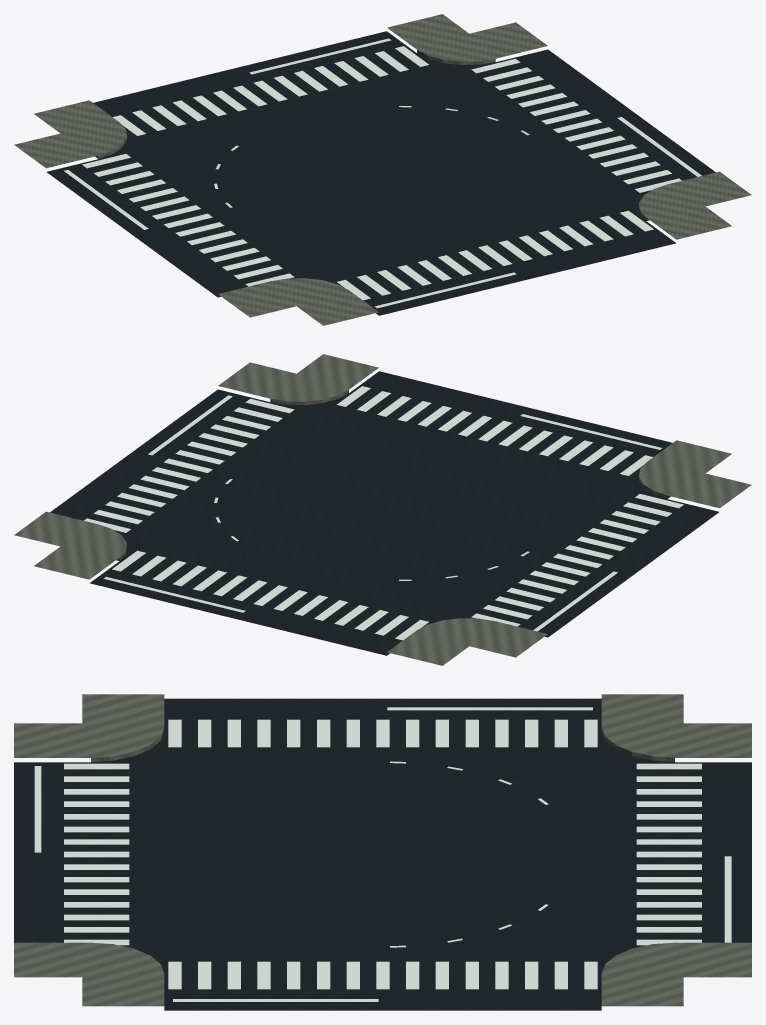
File: junc_cross_4x4_LOD1.glb
3 renders of one model, top to bottom at view 1: azimuth 30°, elevation 25°; view 2: azimuth 150°, elevation 25°; view 3: azimuth 270°, elevation 25°, orthographic. The views are drawn at different scales.
Visible parts, largest first — view 1: junc_cross_4x4__surface.001, junc_cross_4x4__rounded_corner_curb.001, junc_cross_4x4__crosswalk_paint.001, junc_cross_4x4__stop_line_paint.001; view 2: junc_cross_4x4__surface.001, junc_cross_4x4__rounded_corner_curb.001, junc_cross_4x4__crosswalk_paint.001, junc_cross_4x4__stop_line_paint.001; view 3: junc_cross_4x4__surface.001, junc_cross_4x4__rounded_corner_curb.001, junc_cross_4x4__crosswalk_paint.001, junc_cross_4x4__stop_line_paint.001.
Part boxes in pixels (x1,y1,x2,y2): junc_cross_4x4__surface.001: (47, 31, 715, 315); junc_cross_4x4__rounded_corner_curb.001: (14, 14, 751, 325); junc_cross_4x4__crosswalk_paint.001: (82, 46, 681, 300); junc_cross_4x4__stop_line_paint.001: (64, 38, 701, 308); junc_cross_4x4__surface.001: (50, 371, 718, 655); junc_cross_4x4__rounded_corner_curb.001: (14, 354, 751, 665); junc_cross_4x4__crosswalk_paint.001: (84, 386, 683, 640); junc_cross_4x4__stop_line_paint.001: (103, 395, 662, 631); junc_cross_4x4__surface.001: (14, 698, 751, 1010); junc_cross_4x4__rounded_corner_curb.001: (14, 694, 751, 1006); junc_cross_4x4__crosswalk_paint.001: (64, 719, 701, 989); junc_cross_4x4__stop_line_paint.001: (34, 707, 731, 1001).
Size of the model in its own units: 21.6 by 0.145 by 21.6.
Materials: 4 (3 with a texture image).
